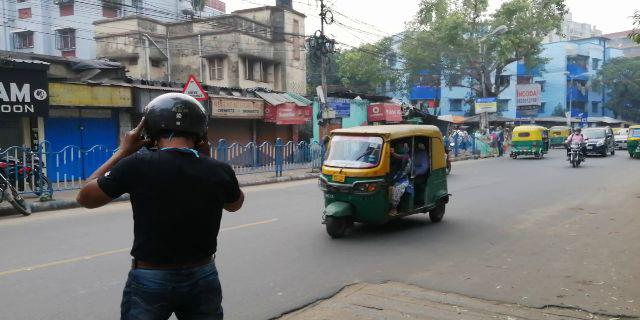Autorickshaw: (324, 126, 455, 236), (512, 127, 544, 159)
Motorbike: (566, 138, 588, 165)
